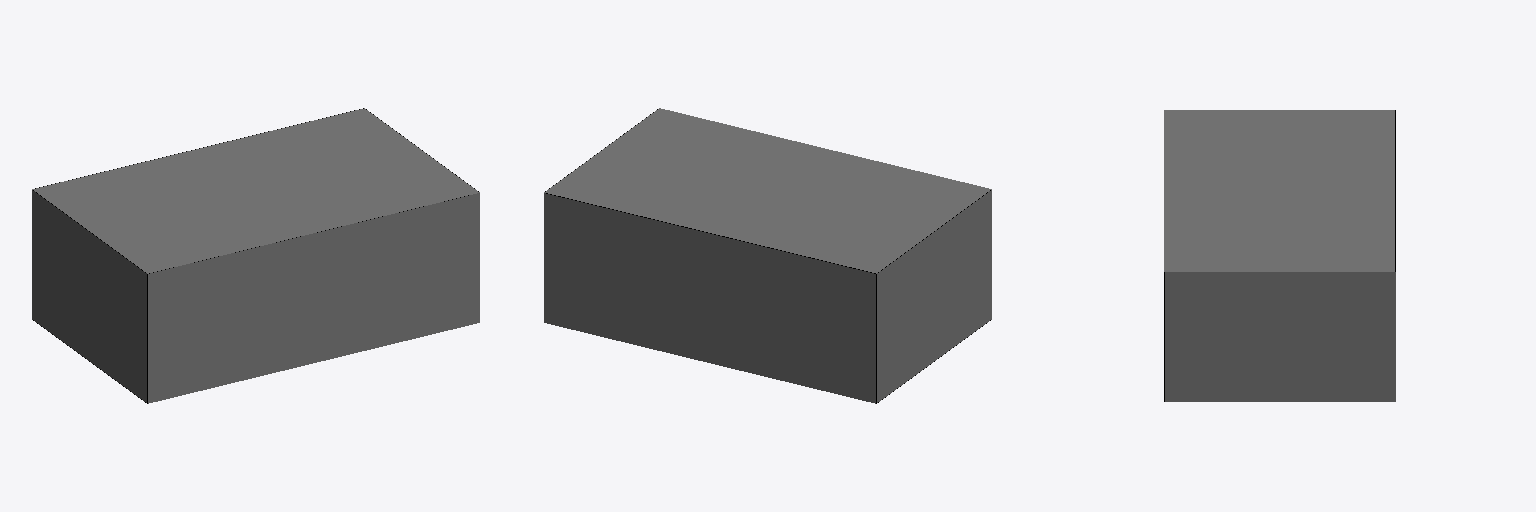
3 views of the same model, side by side, from view 1: azimuth 30°, elevation 25°; view 2: azimuth 150°, elevation 25°; view 3: azimuth 270°, elevation 25° (orthographic).
Bounding box in the file's own units: 0.158 × 0.059 × 0.095.
Materials: 1 (1 with a texture image).